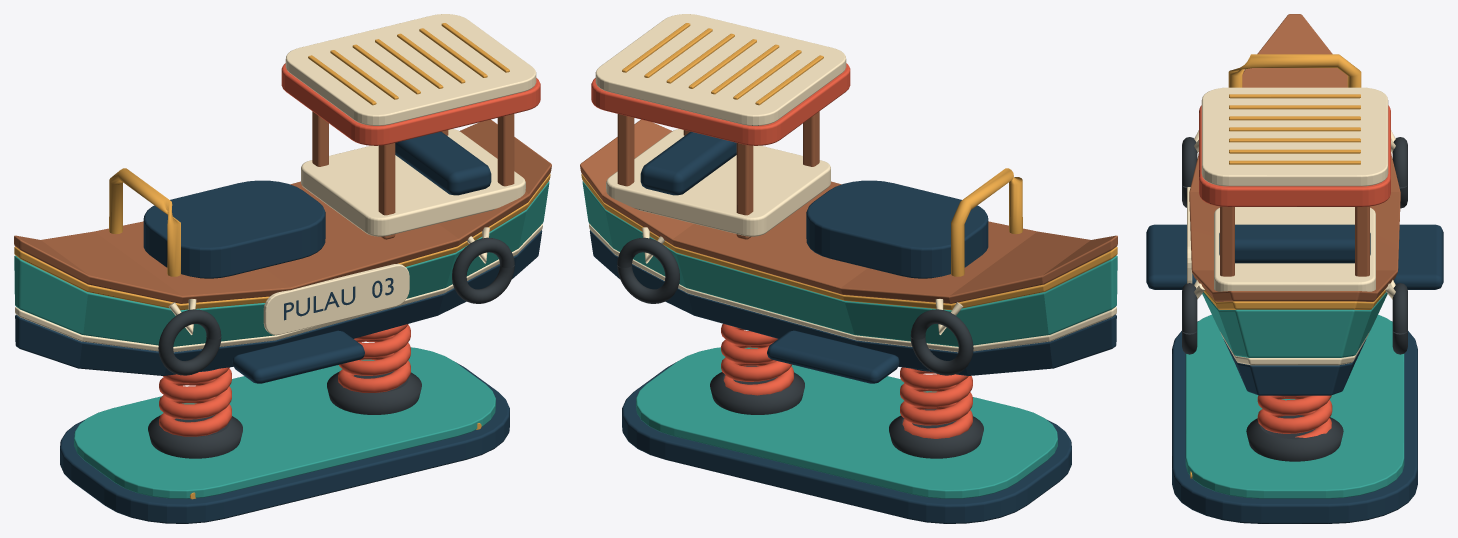
3 views of the same model, side by side, from view 1: azimuth 30°, elevation 25°; view 2: azimuth 150°, elevation 25°; view 3: azimuth 270°, elevation 25° (orthographic). The views are drawn at different scales.
Visible parts, largest first — view 1: Pulau Tiga | Bumboat rocker - Hull, Pulau Tiga | Bumboat rocker - Cabinetry, Pulau Tiga | Bumboat rocker - Wheelhouse, Pulau Tiga | Bumboat rocker - Ride controls, Pulau Tiga | Bumboat rocker - Suspension, Pulau Tiga | Bumboat rocker - Metalwork, Pulau Tiga | Bumboat rocker - Graphics, Pulau Tiga | Bumboat rocker - Turned fittings; view 2: Pulau Tiga | Bumboat rocker - Hull, Pulau Tiga | Bumboat rocker - Cabinetry, Pulau Tiga | Bumboat rocker - Wheelhouse, Pulau Tiga | Bumboat rocker - Ride controls, Pulau Tiga | Bumboat rocker - Suspension, Pulau Tiga | Bumboat rocker - Metalwork, Pulau Tiga | Bumboat rocker - Turned fittings; view 3: Pulau Tiga | Bumboat rocker - Wheelhouse, Pulau Tiga | Bumboat rocker - Cabinetry, Pulau Tiga | Bumboat rocker - Hull, Pulau Tiga | Bumboat rocker - Metalwork, Pulau Tiga | Bumboat rocker - Ride controls, Pulau Tiga | Bumboat rocker - Suspension, Pulau Tiga | Bumboat rocker - Turned fittings, Pulau Tiga | Bumboat rocker - Graphics.
Boxes of the visible parts, x1,y1,x2,y2 form: Pulau Tiga | Bumboat rocker - Hull: (14,119,551,375); Pulau Tiga | Bumboat rocker - Cabinetry: (60,347,509,523); Pulau Tiga | Bumboat rocker - Wheelhouse: (281,14,540,239); Pulau Tiga | Bumboat rocker - Ride controls: (143,180,364,383); Pulau Tiga | Bumboat rocker - Suspension: (159,324,410,436); Pulau Tiga | Bumboat rocker - Metalwork: (109,168,514,375); Pulau Tiga | Bumboat rocker - Graphics: (263,263,409,335); Pulau Tiga | Bumboat rocker - Turned fittings: (148,369,421,458); Pulau Tiga | Bumboat rocker - Hull: (580,119,1117,375); Pulau Tiga | Bumboat rocker - Cabinetry: (622,347,1071,523); Pulau Tiga | Bumboat rocker - Wheelhouse: (591,14,850,239); Pulau Tiga | Bumboat rocker - Ride controls: (767,180,988,383); Pulau Tiga | Bumboat rocker - Suspension: (721,323,972,438); Pulau Tiga | Bumboat rocker - Metalwork: (617,168,1022,375); Pulau Tiga | Bumboat rocker - Turned fittings: (710,365,983,458); Pulau Tiga | Bumboat rocker - Wheelhouse: (1199,87,1390,291); Pulau Tiga | Bumboat rocker - Cabinetry: (1172,314,1417,523); Pulau Tiga | Bumboat rocker - Hull: (1189,14,1400,395); Pulau Tiga | Bumboat rocker - Metalwork: (1182,54,1407,354); Pulau Tiga | Bumboat rocker - Ride controls: (1146,224,1443,289); Pulau Tiga | Bumboat rocker - Suspension: (1257,395,1332,437); Pulau Tiga | Bumboat rocker - Turned fittings: (1246,415,1343,461); Pulau Tiga | Bumboat rocker - Graphics: (1187,187,1192,283).
Bounding box in the file's own units: 2.2 × 1.47 × 1.1.
